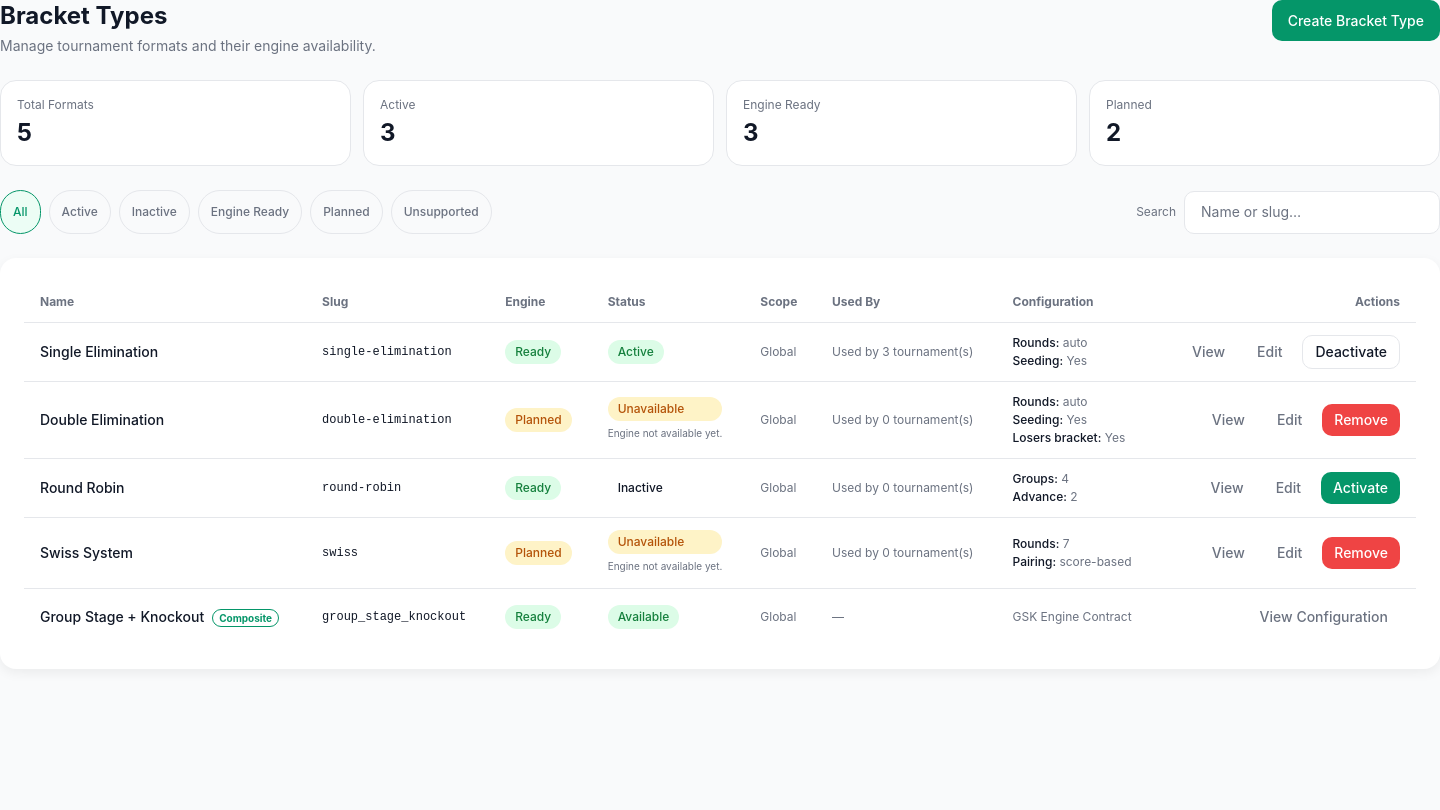
Scenario: TournamentBracketTypesPage — Step 2A management UI › 11. view configuration modal shows stored schema (DB) and registry metadata (GSK)
Expected: the text "Single Elimination" is shown, 24,322 -> 306,382
Expected: the row that starts with "Single Elimination" is shown, 24,322 -> 1416,382
Click the button "View" in the row of "Single Elimination" at (1209, 352), box 1180,336 -> 1237,368
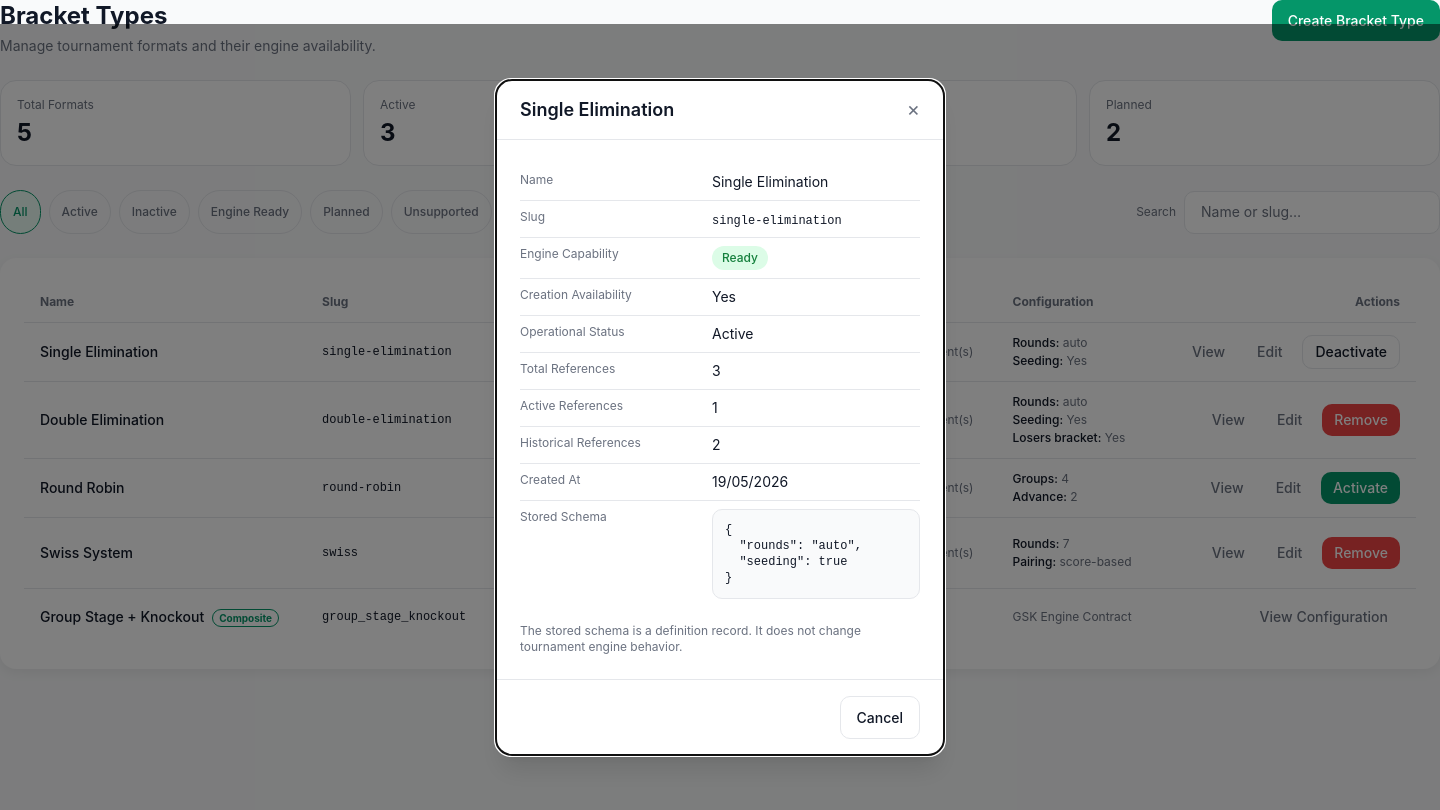
Result: the text "Stored Schema" is shown at 520,508 -> 607,524
Result: the text "{ \"rounds\": \"auto\", \"seeding\": true }" is shown at 712,508 -> 920,598
Click the button named "Close" at (913, 109), box 907,99 -> 920,119
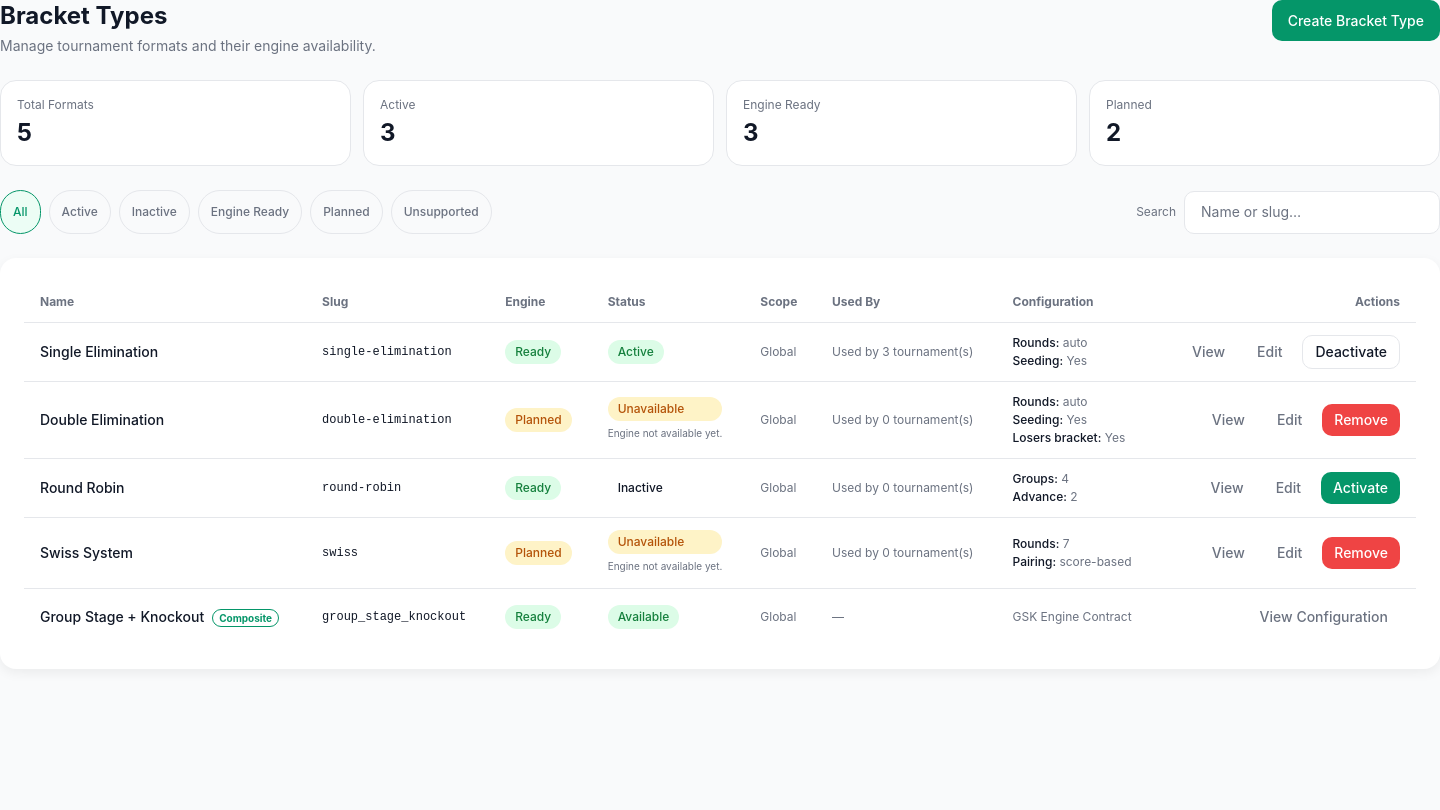
Expected: the row that starts with "Group Stage + Knockout" is shown, 24,588 -> 1416,645
Click the button "View Configuration" at (1324, 617), box 1248,601 -> 1400,633
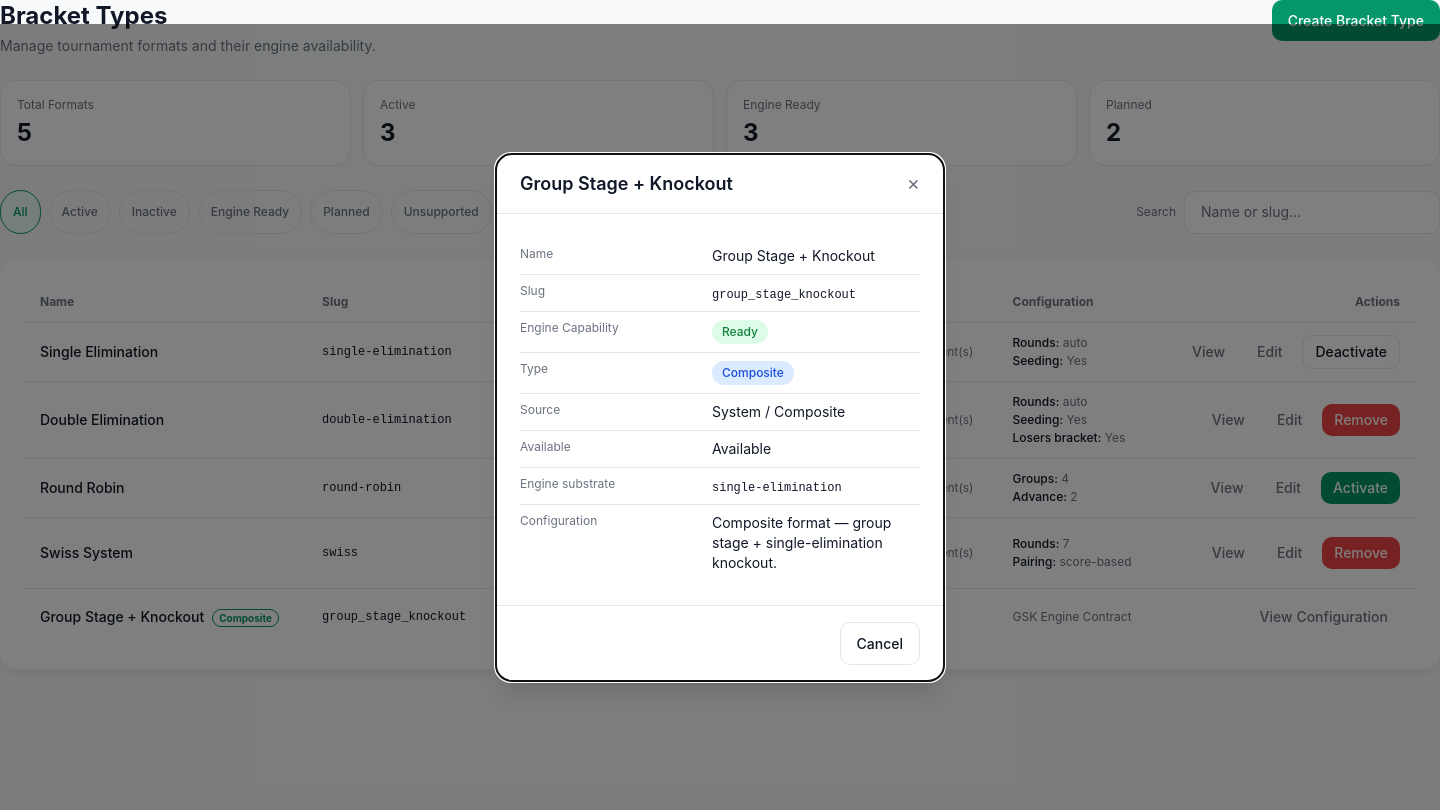
Result: the text "Composite" is shown at 712,360 -> 794,384
Result: the text "single-elimination" is shown at 712,480 -> 842,494
Result: the text "group stage + single-elimination knockout" is shown at 712,514 -> 891,570
